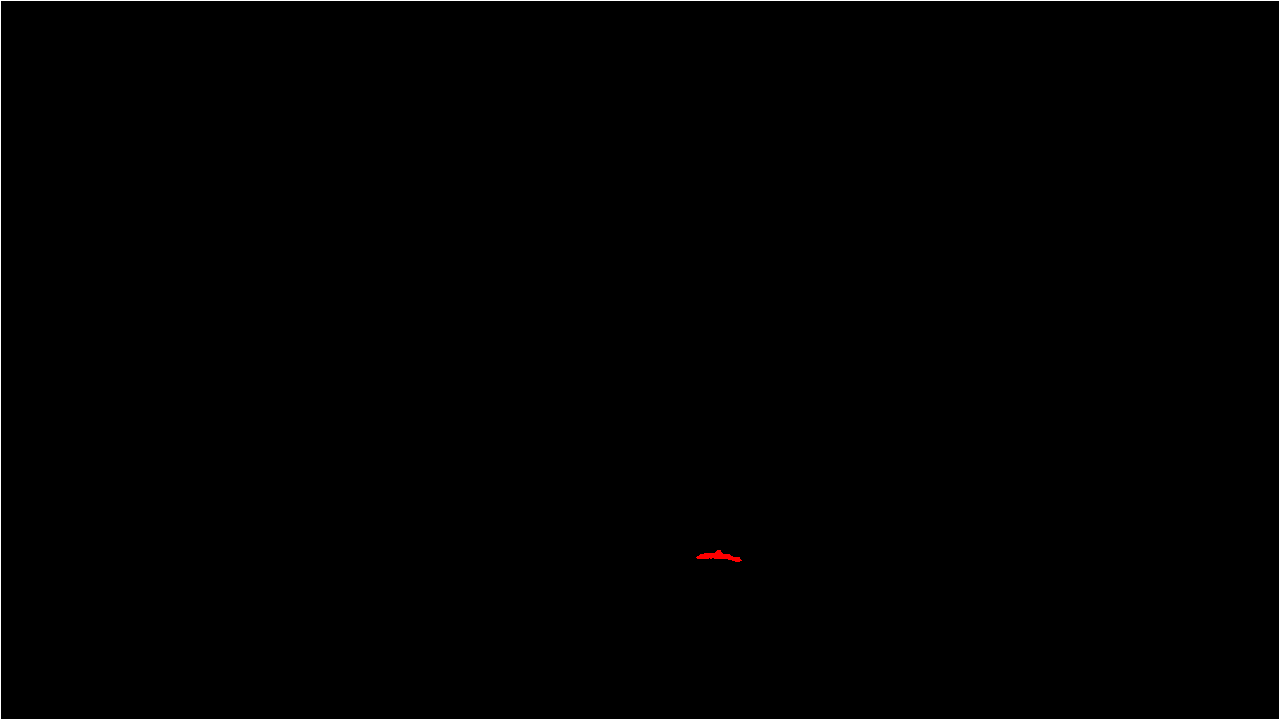drone: (689, 530, 750, 575)
